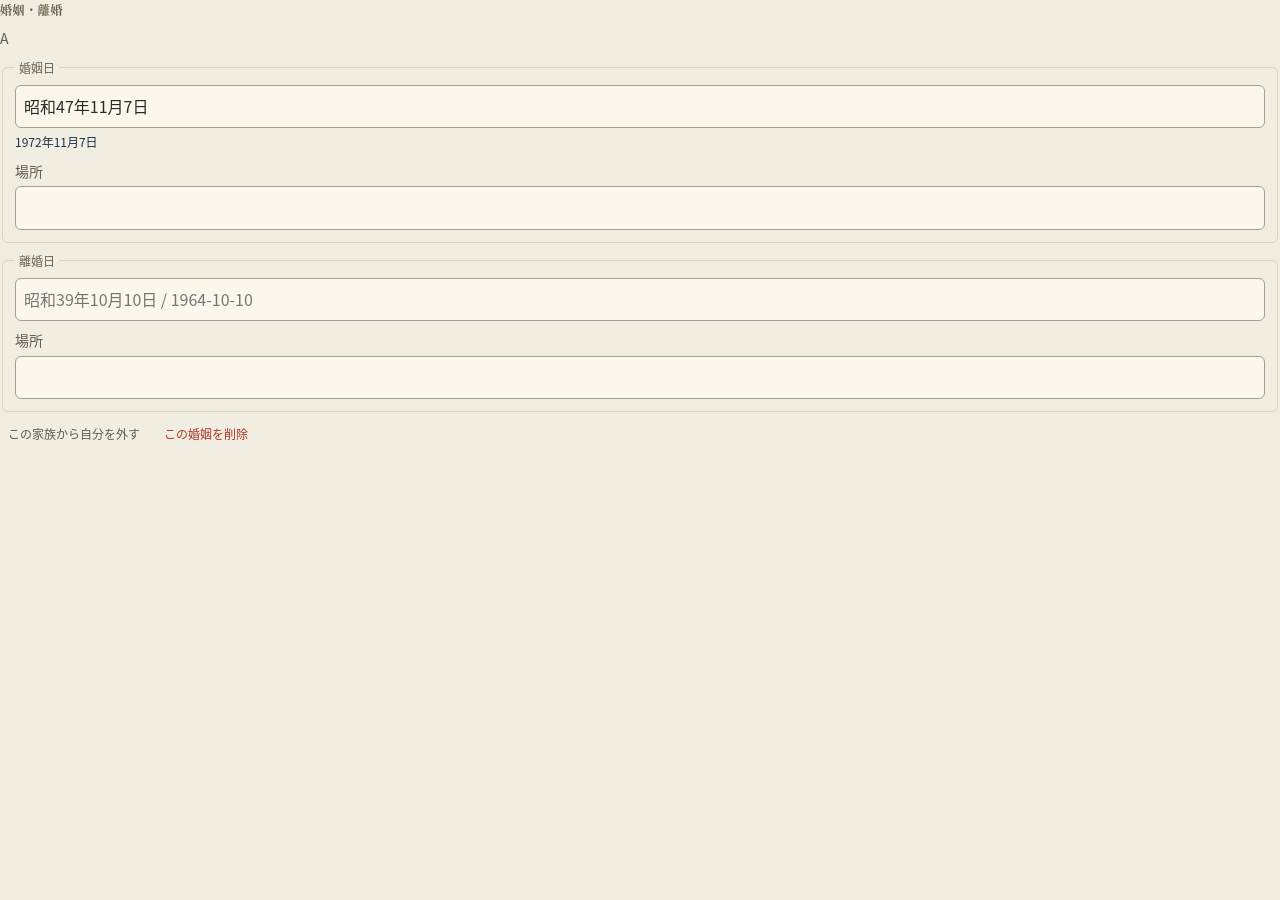
Test: FamilyEventEditor: 家族からの離脱 › 子なしの家族では、失われる婚姻の記録の件数が事前に示される
The image size is (1280, 900).
Click the button "この家族から自分を外す" at (74, 434), box [0, 420, 148, 448]
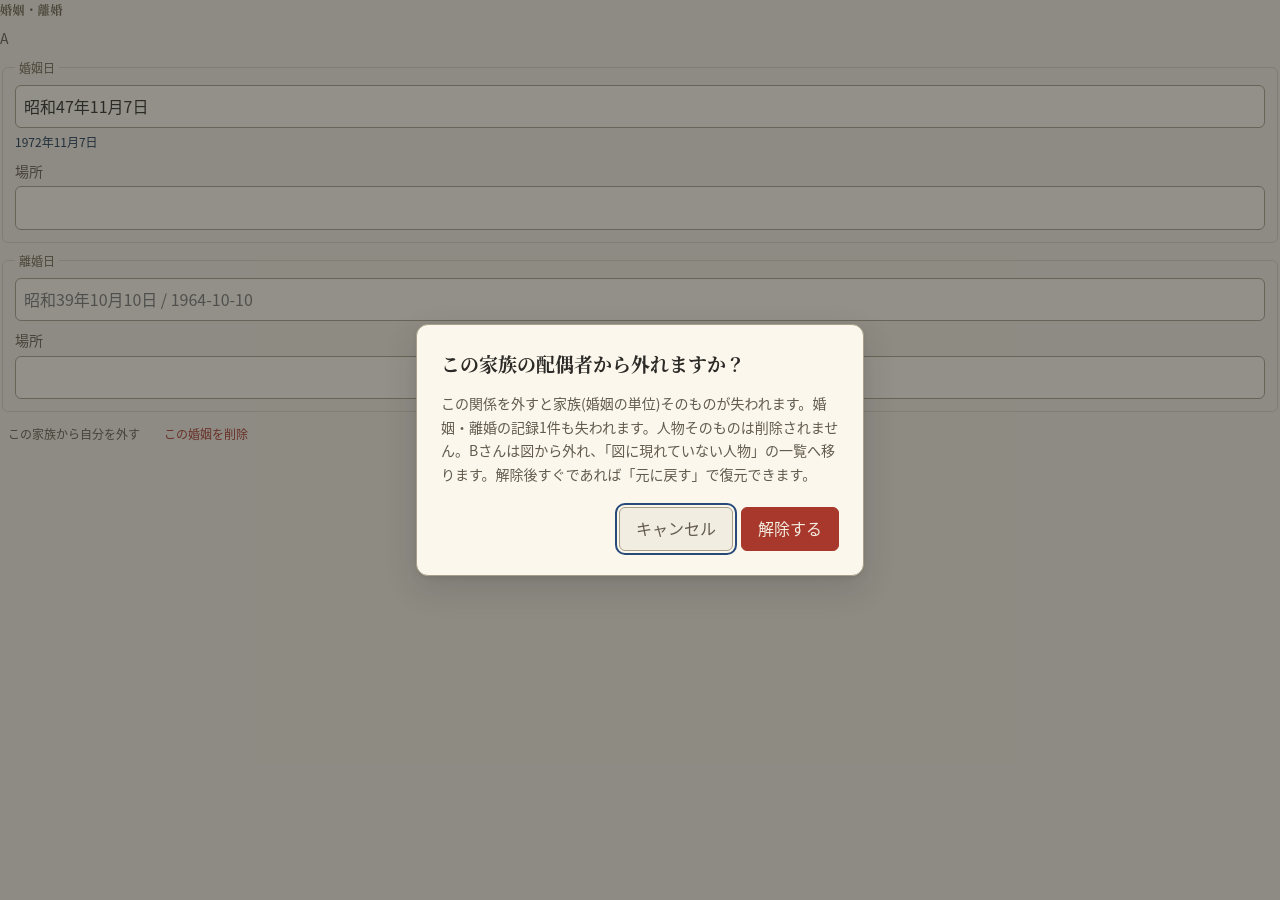
Check: the dialog shows "婚姻・離婚の記録1件", box [441, 393, 826, 437]
Check: the dialog shows "人物そのものは削除されません", box [441, 417, 838, 460]
Check: the dialog shows "元に戻す", box [496, 464, 816, 484]
